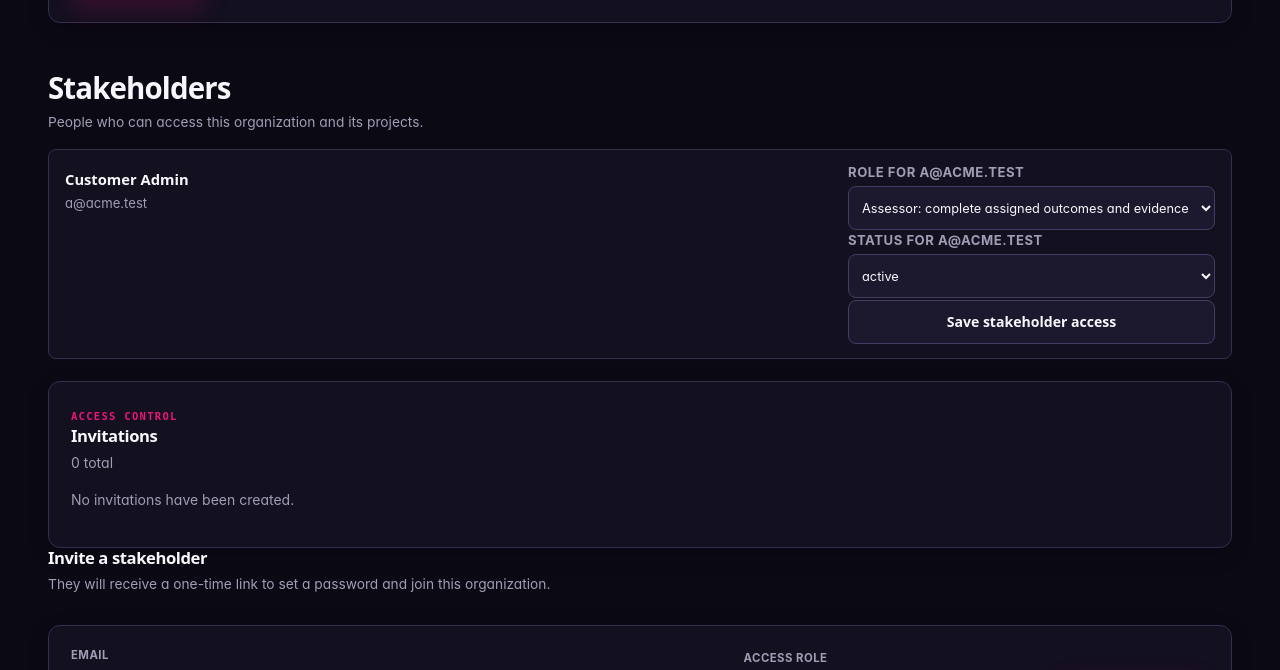
it: uses the shared ellipsis while stakeholder access saves
(page scrolled)
Click the button with aria-label "save access for a@acme.test": point(1032, 322) [848, 300, 1215, 344]
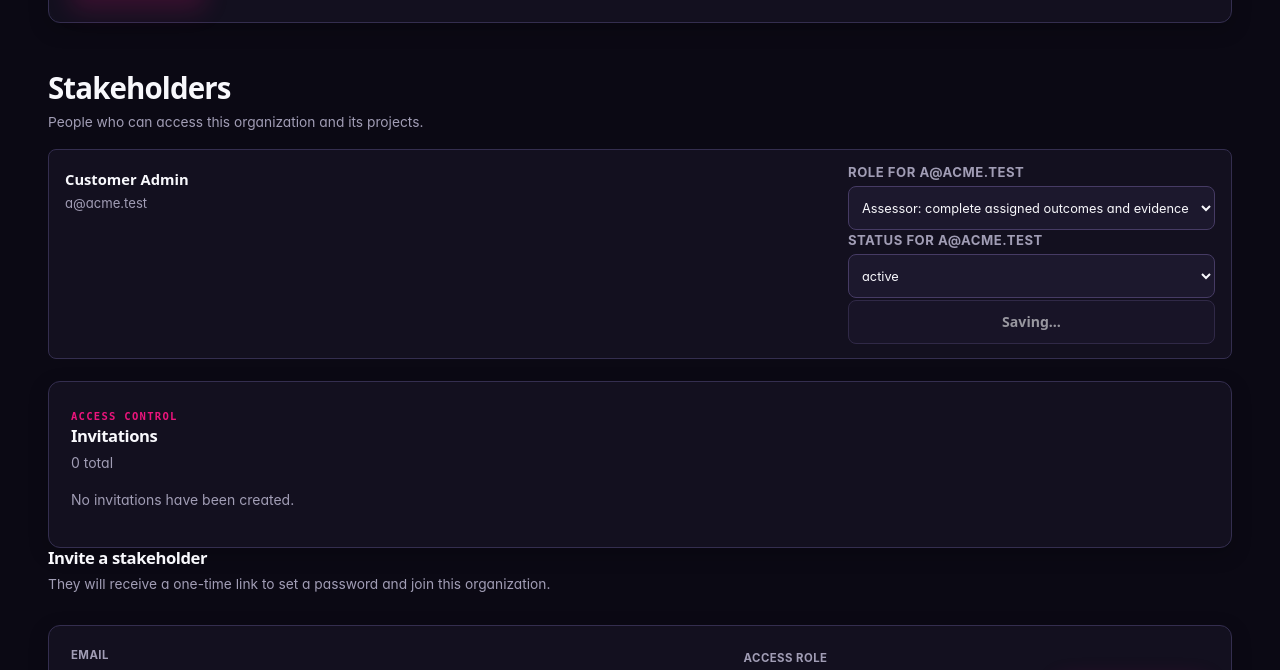
Now the button with aria-label "save access for a@acme.test" reads "Saving…", box [848, 300, 1215, 344]
